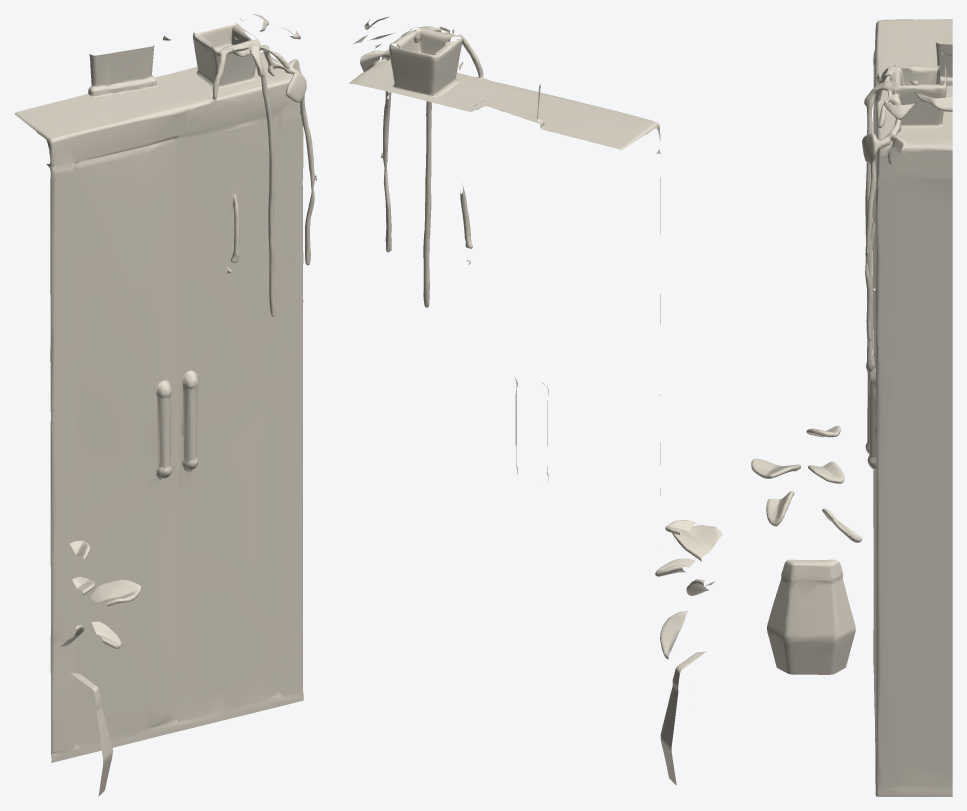
Rendered from wardrobe.glb.
3 renders of one model, left to right at view 1: azimuth 30°, elevation 25°; view 2: azimuth 150°, elevation 25°; view 3: azimuth 270°, elevation 25°, orthographic. The views are drawn at different scales.
Bounding box in the file's own units: 0.3051 × 0.741 × 0.1956.
